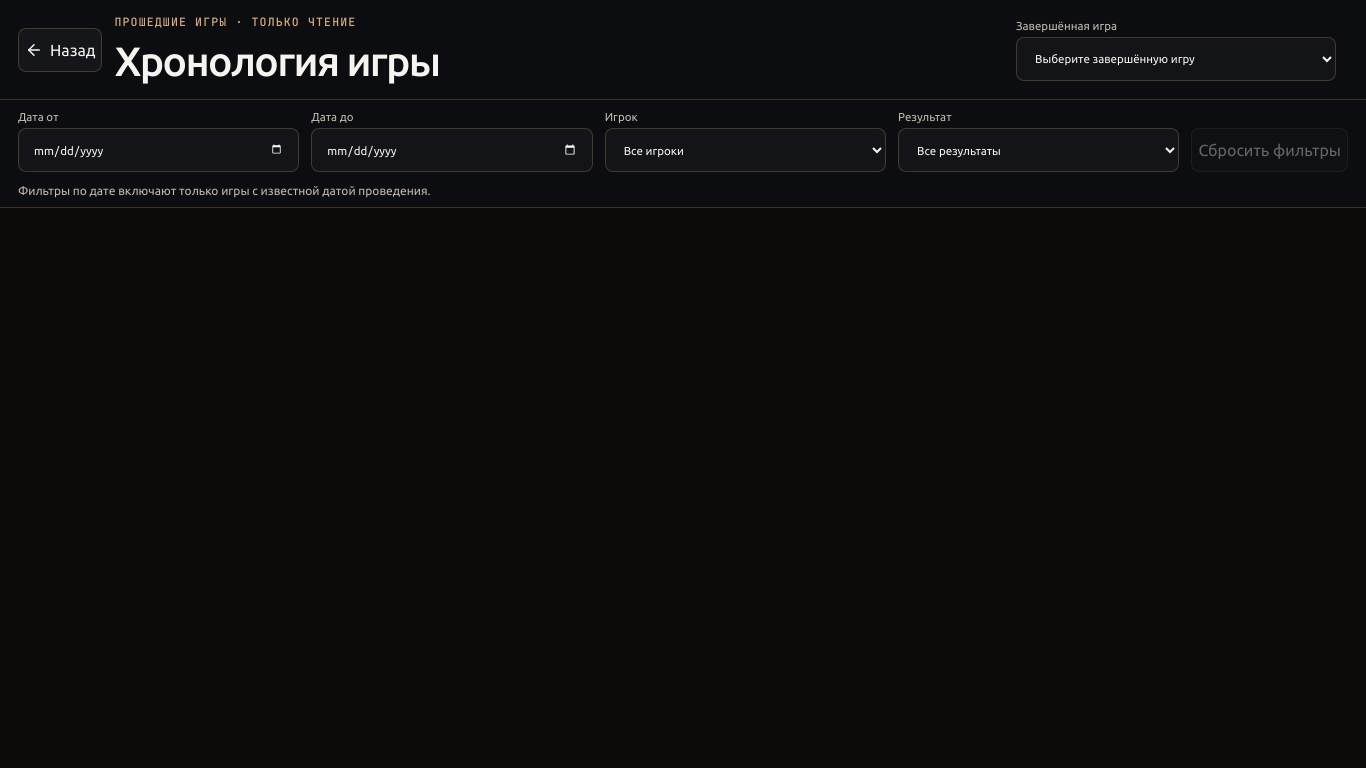
engine-independent completed records (ru) › lists and opens an empty completed record normally without invented results, dates or controls
Select "Recorded table · Исход неизвестен" in the dropdown labelled "Завершённая игра" at (1176, 58), box [1016, 36, 1336, 80]
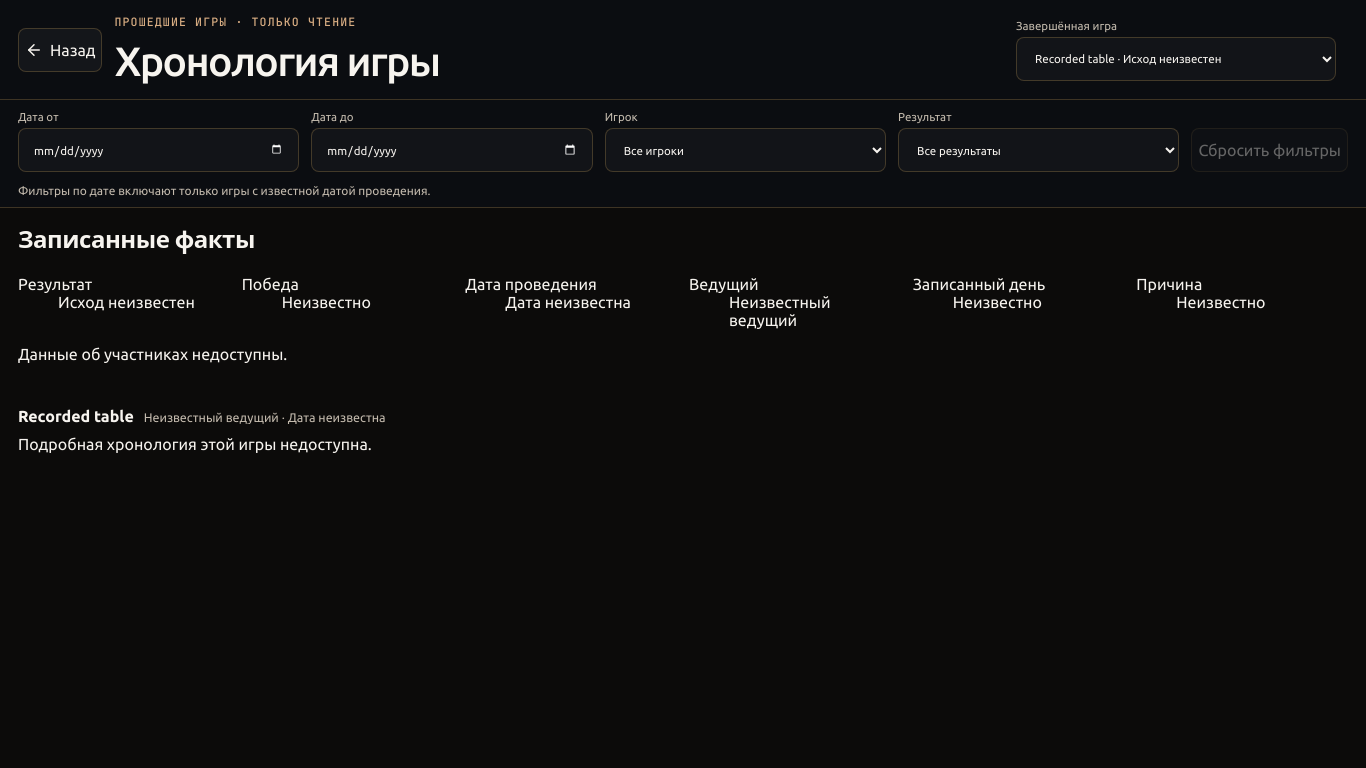
Expected: the text "Подробная хронология этой игры недоступна." is shown, [18, 435, 372, 453]
Expected: the text "Дата неизвестна" is shown, [505, 293, 631, 311]
Expected: the text "Неизвестный ведущий" is shown, [729, 293, 830, 329]
